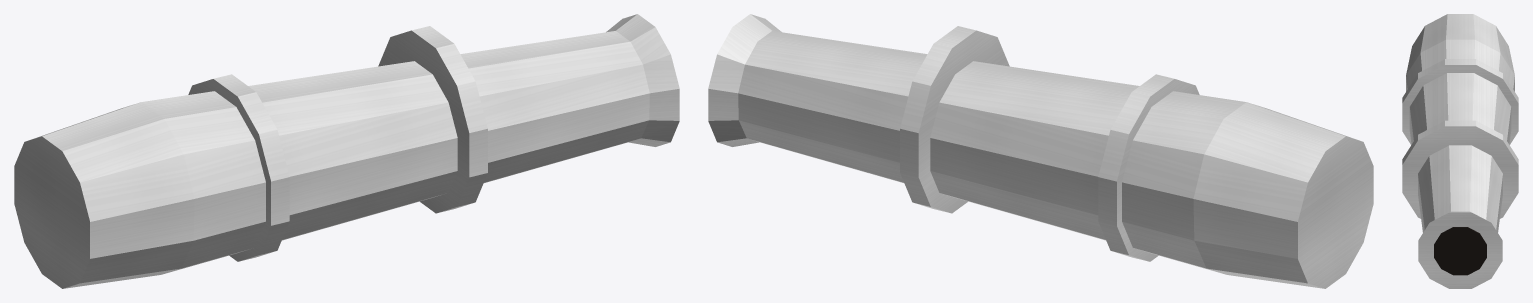
The model's file is ruin_cannon.obj.
3 renders of one model, left to right at view 1: azimuth 30°, elevation 25°; view 2: azimuth 150°, elevation 25°; view 3: azimuth 270°, elevation 25°, orthographic. The views are drawn at different scales.
Visible parts, largest first — view 1: ruin_cannon; view 2: ruin_cannon; view 3: ruin_cannon.
Part boxes in pixels (x1,y1,x2,y2): ruin_cannon: (14, 14, 679, 288); ruin_cannon: (708, 14, 1373, 288); ruin_cannon: (1402, 14, 1518, 288).
Bounding box in the file's own units: 4.82 × 1.27 × 1.27.
